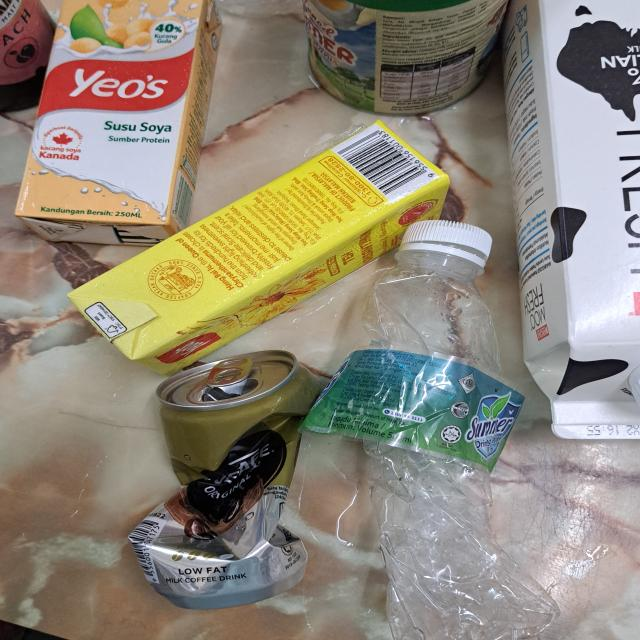can: (128, 348, 335, 609), (302, 0, 510, 114)
drink carton: (64, 122, 450, 374), (506, 0, 640, 443), (13, 0, 222, 245)
plastic bottle: (304, 252, 558, 640)
plastic bottle cap: (400, 220, 495, 262)
pop tab: (206, 356, 256, 386)
